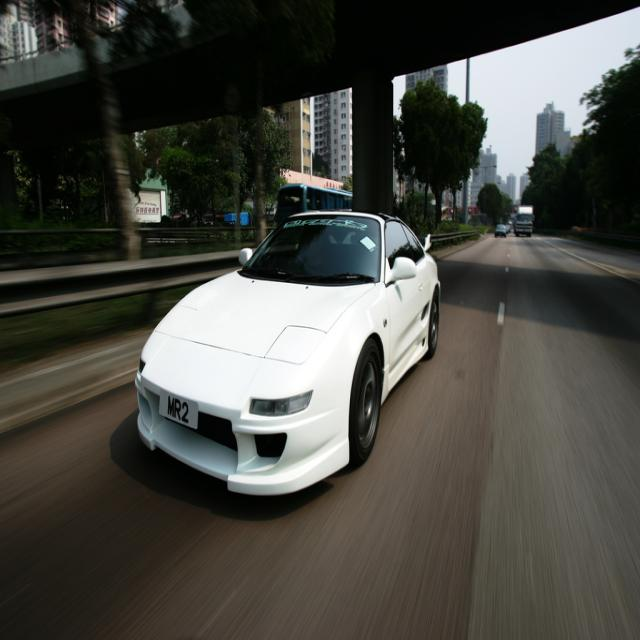car: (129, 189, 447, 494), (491, 222, 506, 240)
